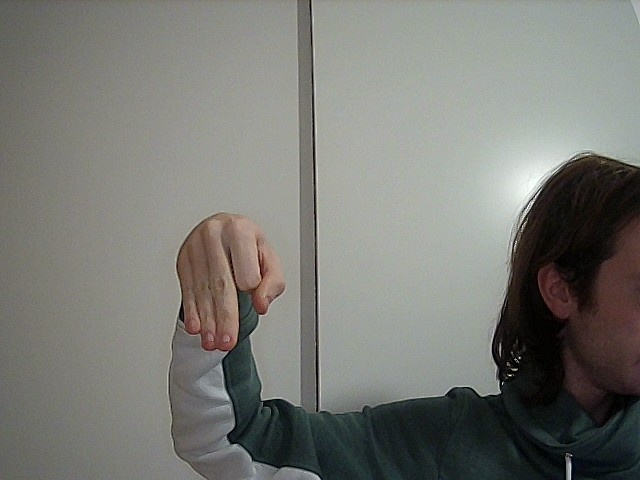m: (144, 203, 294, 363)
